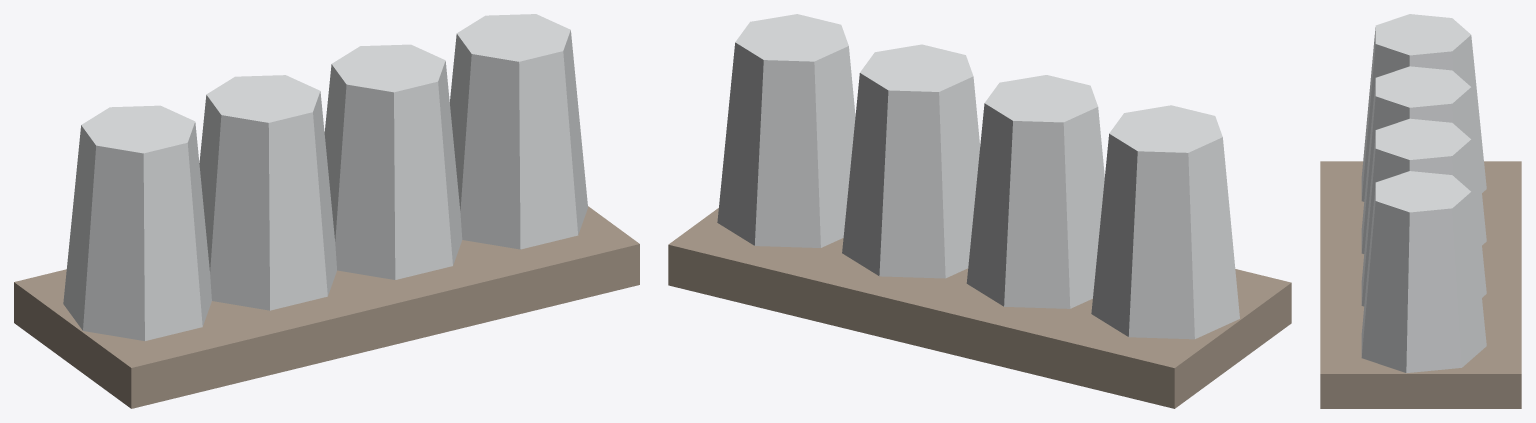
File: prop_churns.glb
3 views of the same model, side by side, from view 1: azimuth 30°, elevation 25°; view 2: azimuth 150°, elevation 25°; view 3: azimuth 270°, elevation 25° (orthographic). The views are drawn at different scales.
Parts seen in each view (by area): view 1: prop_churns; view 2: prop_churns; view 3: prop_churns.
Boxes of the visible parts, box(x1,y1,x2,y2) form: prop_churns: box(14, 14, 639, 408); prop_churns: box(668, 14, 1291, 408); prop_churns: box(1320, 14, 1521, 408).
Bounding box in the file's own units: 0.13 × 0.054 × 0.052.
